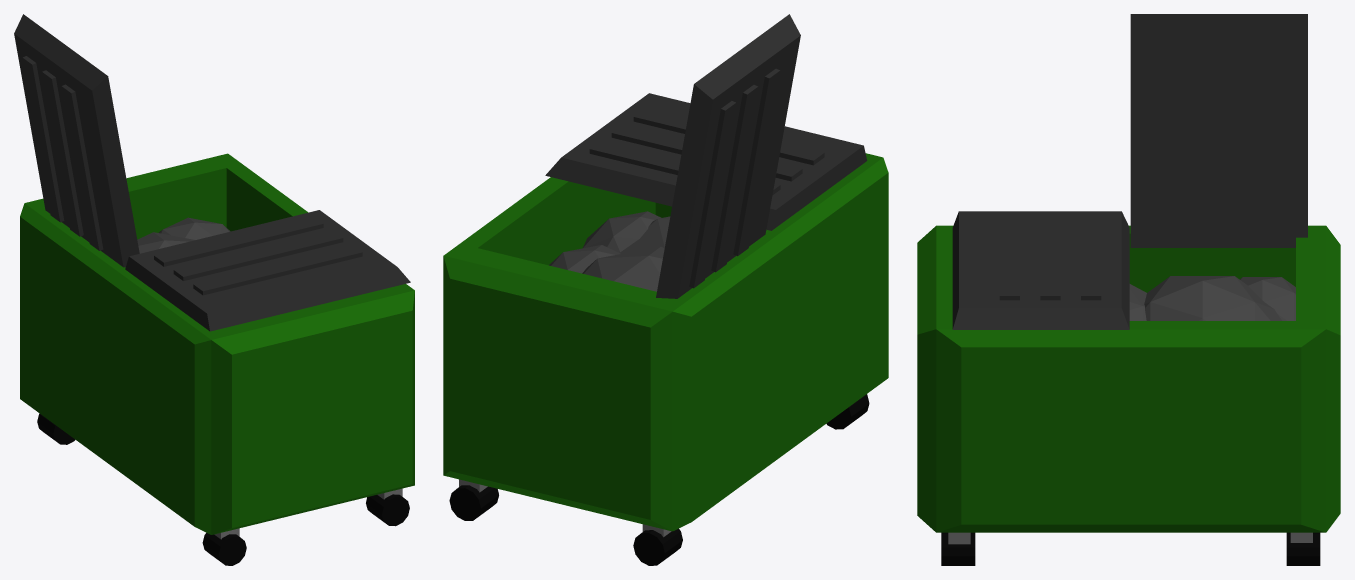
The model's file is bin.fbx.
3 renders of one model, left to right at view 1: azimuth 30°, elevation 25°; view 2: azimuth 150°, elevation 25°; view 3: azimuth 270°, elevation 25°, orthographic. The views are drawn at different scales.
Parts seen in each view (by area): view 1: Cube, Cube.002, Cylinder, Icosphere.002; view 2: Cube, Cube.002, Icosphere.002, Cylinder; view 3: Cube, Cube.002, Icosphere.002, Cylinder.
Part boxes in pixels (x1,y1,x2,y2): Cube: (20, 153, 414, 534); Cube.002: (14, 14, 410, 331); Cylinder: (37, 413, 409, 565); Icosphere.002: (137, 217, 230, 253); Cube: (443, 153, 888, 531); Cube.002: (545, 14, 867, 298); Icosphere.002: (549, 211, 670, 291); Cylinder: (449, 394, 869, 565); Cube: (917, 225, 1340, 532); Cube.002: (952, 14, 1307, 329); Icosphere.002: (1129, 276, 1295, 320); Cylinder: (941, 532, 1320, 565).
Bounding box in the file's own units: 274 × 476 × 406.
